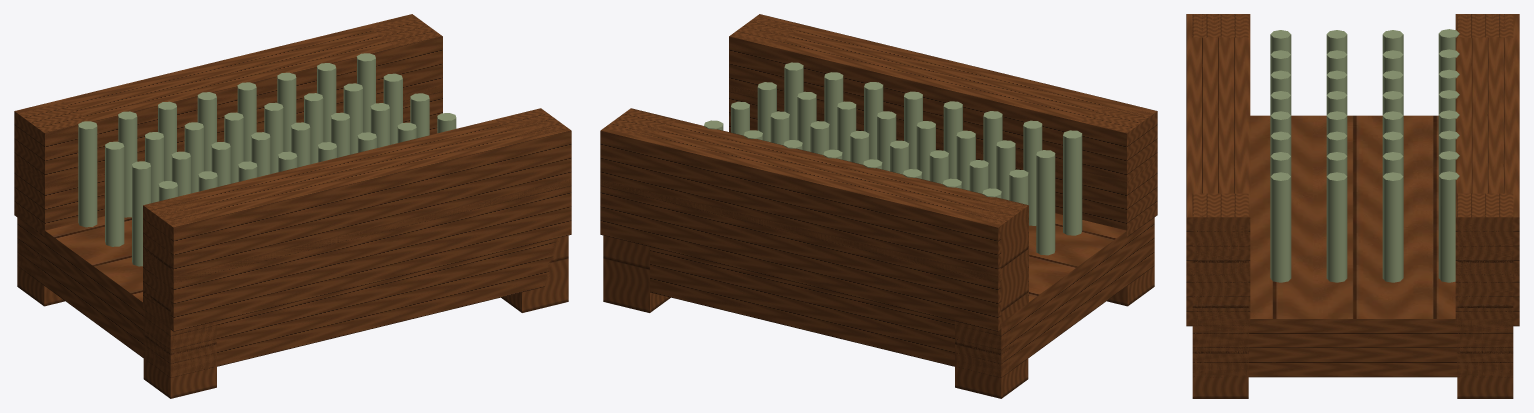
The model's file is bunker-shelter-construction-entrance-boot-scraper-153de7bb__23395.glb.
3 views of the same model, side by side, from view 1: azimuth 30°, elevation 25°; view 2: azimuth 150°, elevation 25°; view 3: azimuth 270°, elevation 25° (orthographic). The views are drawn at different scales.
Visible parts, largest first — view 1: entrance-boot-scraper; view 2: entrance-boot-scraper; view 3: entrance-boot-scraper.
Part boxes in pixels (x1,y1,x2,y2): entrance-boot-scraper: (14,14,571,398); entrance-boot-scraper: (600,14,1157,398); entrance-boot-scraper: (1186,14,1519,398).
Size of the model in its own units: 0.6 by 0.2512 by 0.416.
2 materials, 1 textured.
